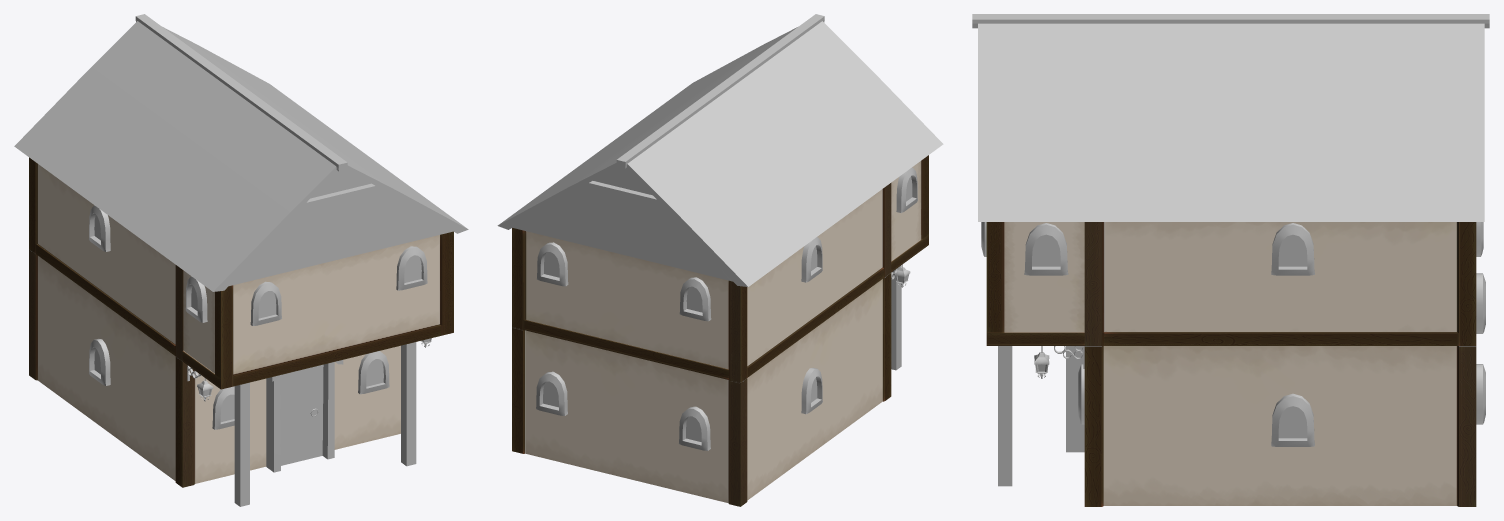
File: house2.fbx
3 renders of one model, left to right at view 1: azimuth 30°, elevation 25°; view 2: azimuth 150°, elevation 25°; view 3: azimuth 270°, elevation 25°, orthographic. The views are drawn at different scales.
Visible parts, largest first — view 1: village_Wall_Side_FF_2; view 2: village_Wall_Side_FF_2; view 3: village_Wall_Side_FF_2.
Part boxes in pixels (x1=…): village_Wall_Side_FF_2: x1=14, y1=14, x2=468, y2=506; village_Wall_Side_FF_2: x1=497, y1=14, x2=943, y2=506; village_Wall_Side_FF_2: x1=972, y1=14, x2=1489, y2=506.
Size of the model in its own units: 549 by 673 by 754.
